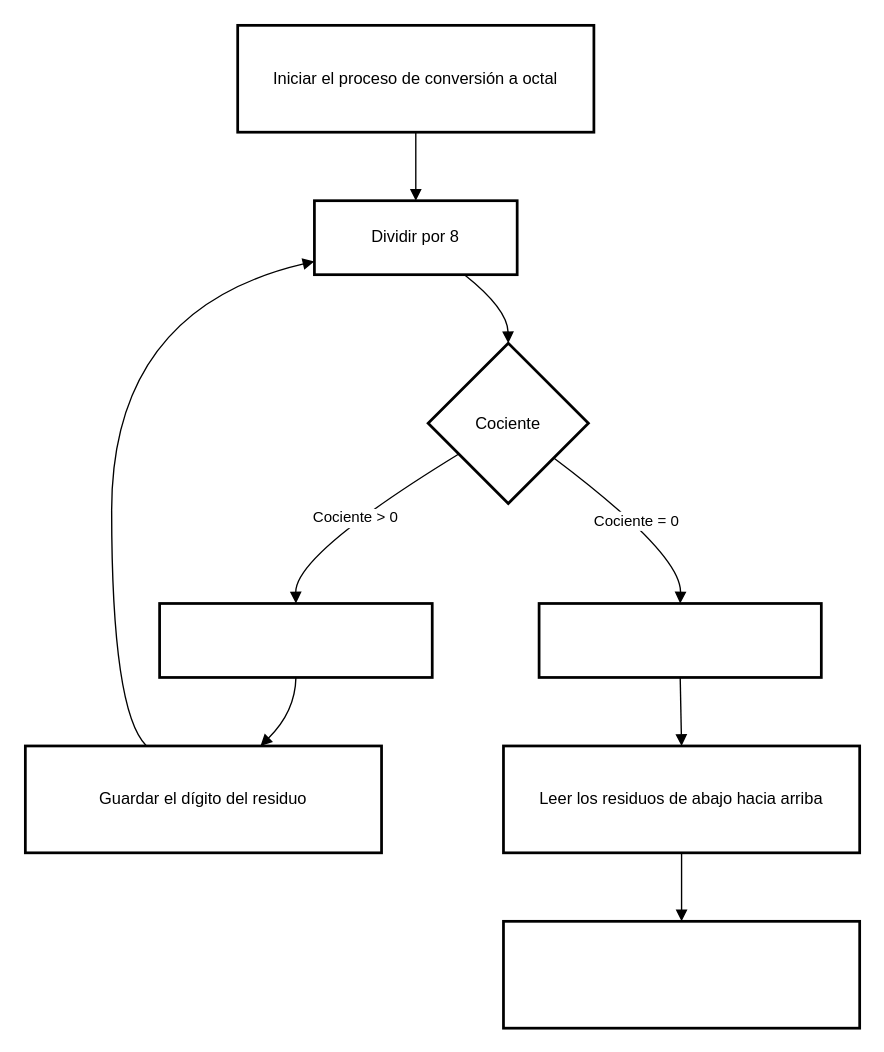
Image size: 884x1052. Some labels were removed from this diagram. Each missing label, with the centre of its shape:
"Ordenar los residuos" belongs at (x=679, y=639).
"Registrar el residuo" belongs at (x=295, y=639).
"Resultado final: Número octal" belongs at (x=680, y=974).
